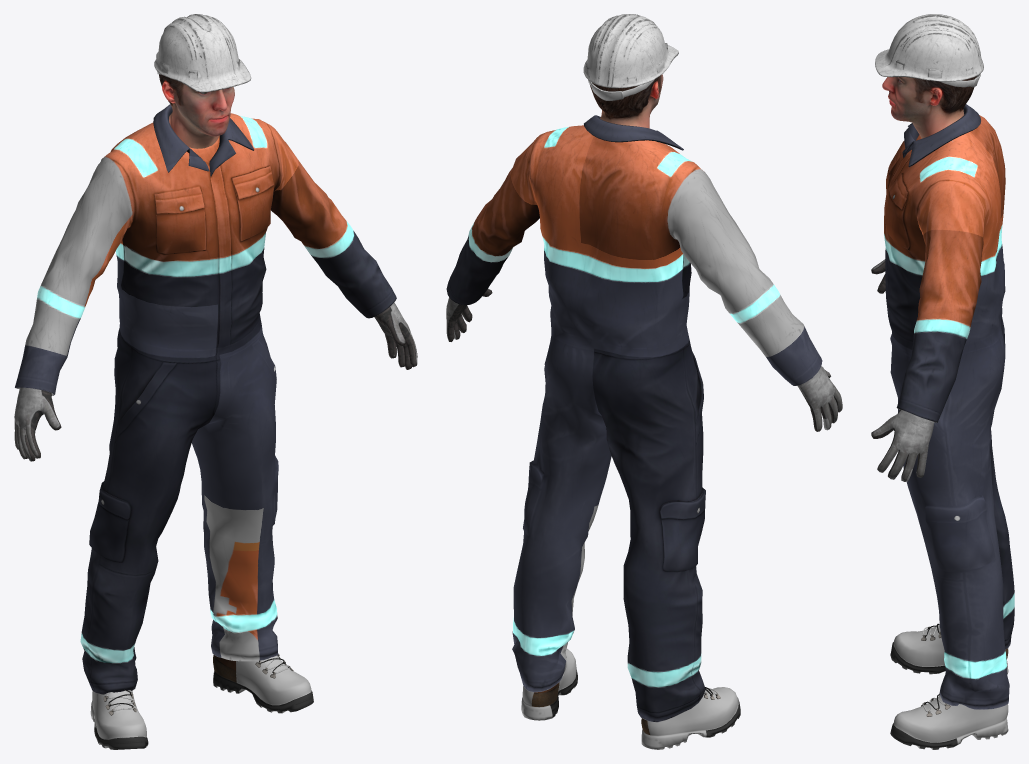
The model's file is worker.glb.
The picture shows the model from 3 angles, left to right: view 1: azimuth 30°, elevation 25°; view 2: azimuth 150°, elevation 25°; view 3: azimuth 270°, elevation 25°; orthographic projection. The views are drawn at different scales.
Parts seen in each view (by area): view 1: g (×2); view 2: g (×2); view 3: g (×2).
Boxes of the visible parts, <box> form: g (×2): <box>14,14,417,749</box>; g (×2): <box>446,14,842,749</box>; g (×2): <box>871,14,1014,749</box>.
Bounding box in the file's own units: 42.41 × 72.92 × 13.85.
2 materials, 2 textured.
